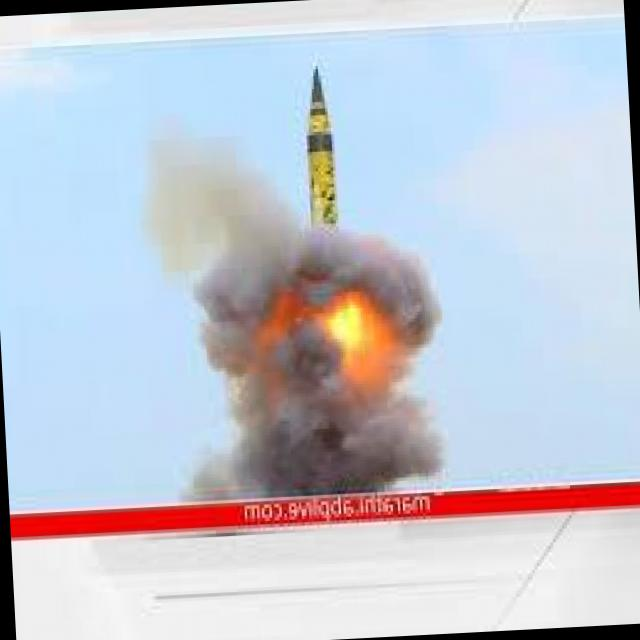rocket: (296, 50, 355, 382)
